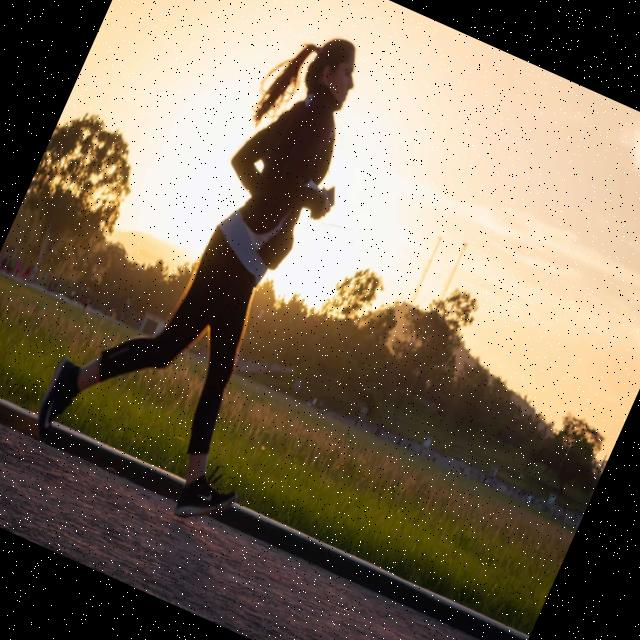Person: (20, 0, 424, 537)
